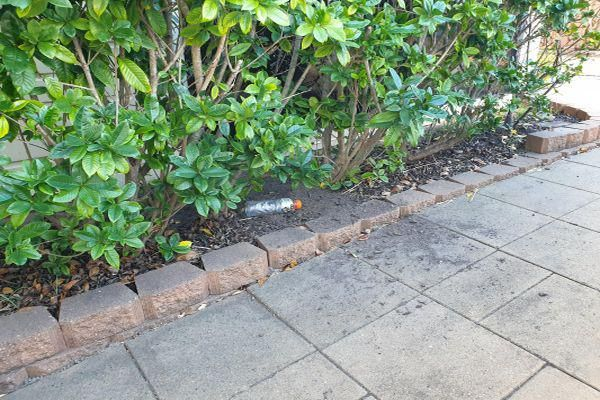Plastic Bottle: (242, 198, 303, 219)
